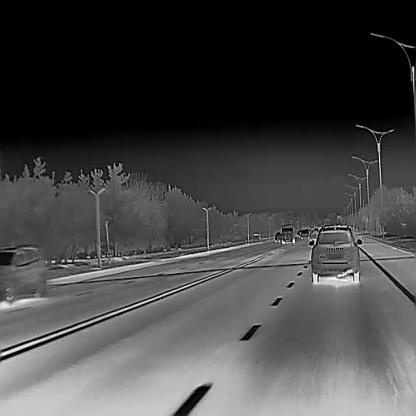car: (308, 225, 362, 282), (0, 242, 45, 302), (280, 224, 295, 243), (297, 228, 308, 238), (253, 232, 262, 242), (274, 231, 281, 241)
